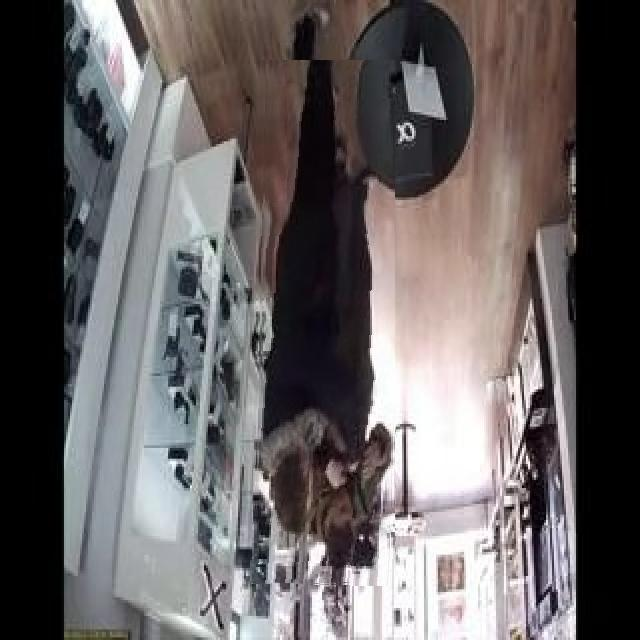Shoplifting: (254, 60, 395, 586)
